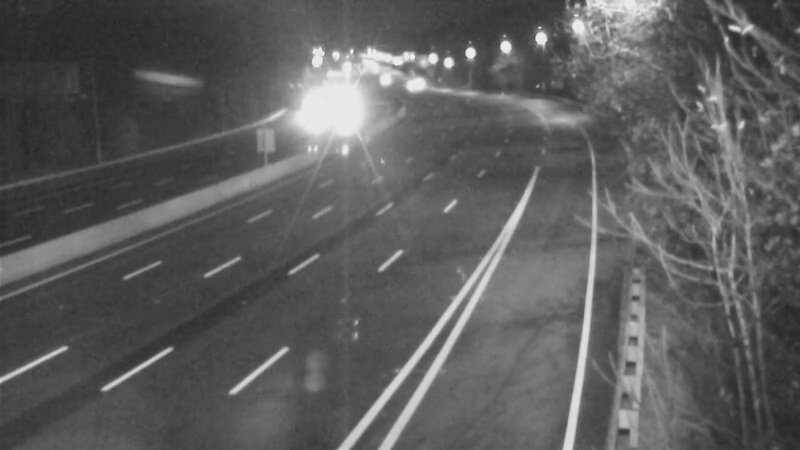vehicle: (356, 55, 406, 105), (383, 59, 433, 109), (318, 89, 368, 139), (281, 89, 331, 139)
